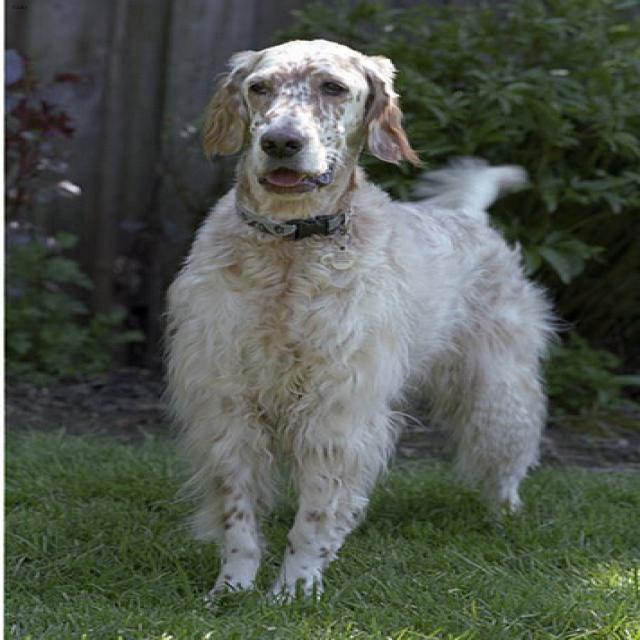dog-english_setter: (151, 28, 575, 609)
